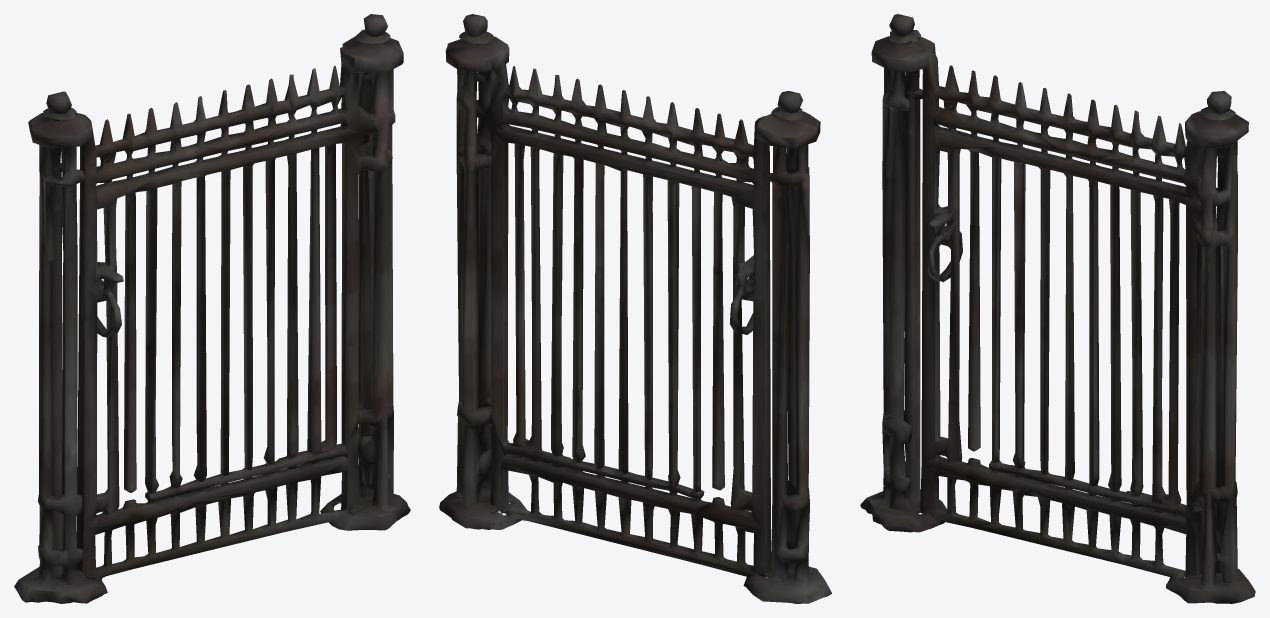
Rendered from weathered-iron-iron-gate-v003.glb.
3 views of the same model, side by side, from view 1: azimuth 30°, elevation 25°; view 2: azimuth 150°, elevation 25°; view 3: azimuth 330°, elevation 25° (orthographic).
Visible parts, largest first — view 1: weathered-iron-iron-gate; view 2: weathered-iron-iron-gate; view 3: weathered-iron-iron-gate.
Boxes of the visible parts, <box> form: weathered-iron-iron-gate: <box>14,14,410,603</box>; weathered-iron-iron-gate: <box>439,14,831,603</box>; weathered-iron-iron-gate: <box>860,14,1255,603</box>.
Size of the model in its own units: 2.04 by 2.49 by 0.3983.
1 material, 1 textured.
